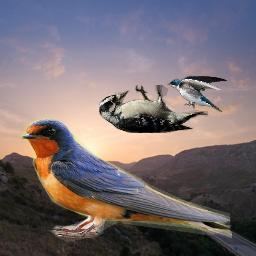Swallow: (16, 114, 232, 245), (167, 75, 227, 112)
Woodpecker: (99, 85, 208, 133)
